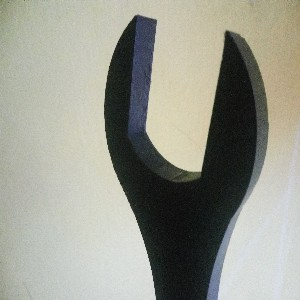spanner: (103, 14, 270, 300)
